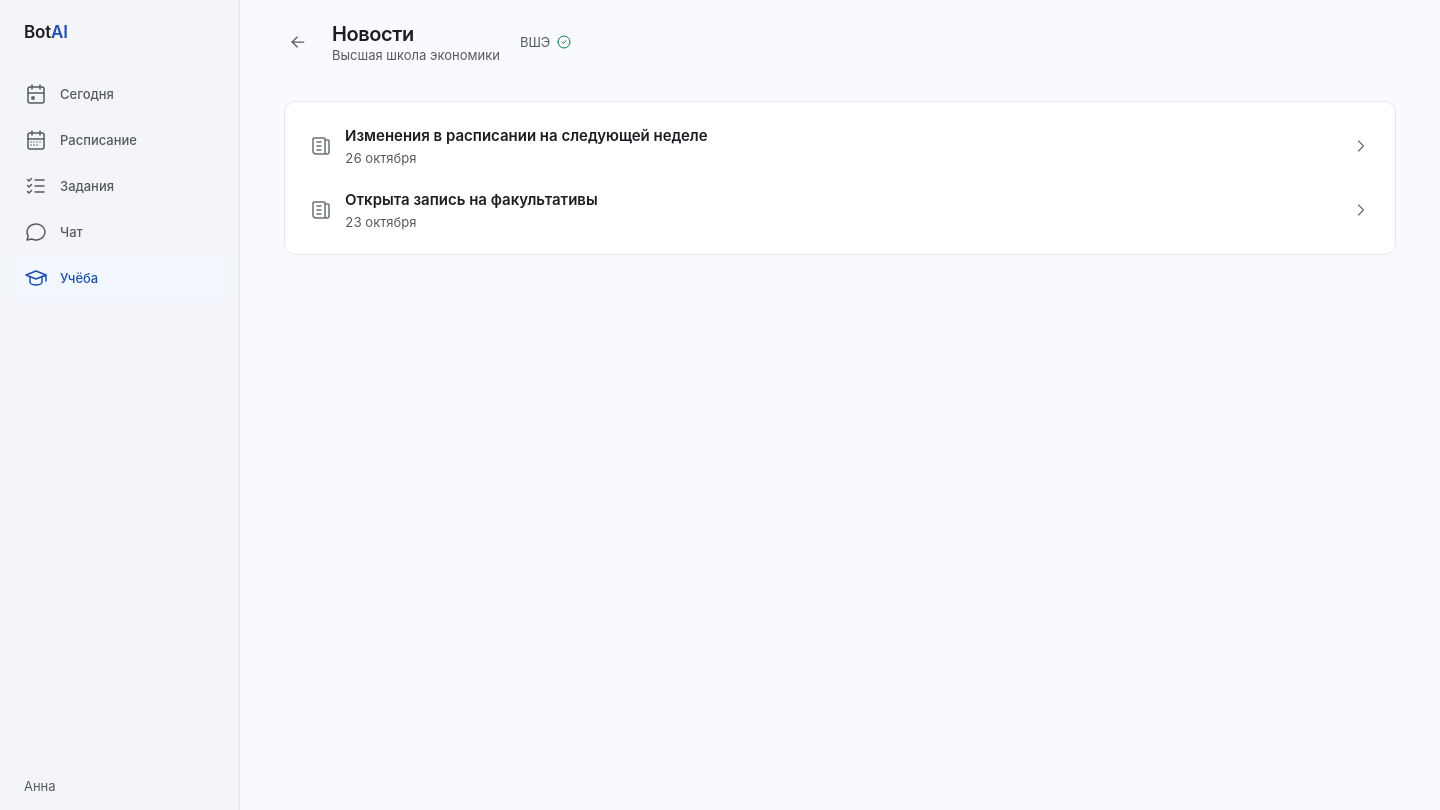
Test: «Учёба»: экраны разделов › «Новости»: свежие первыми, текст новости — обычный текст, ссылка на оригинал отдельно
Click the button "Изменения в расписании на следующей неделе 26 октября": (526, 136) [297,114,1383,178]
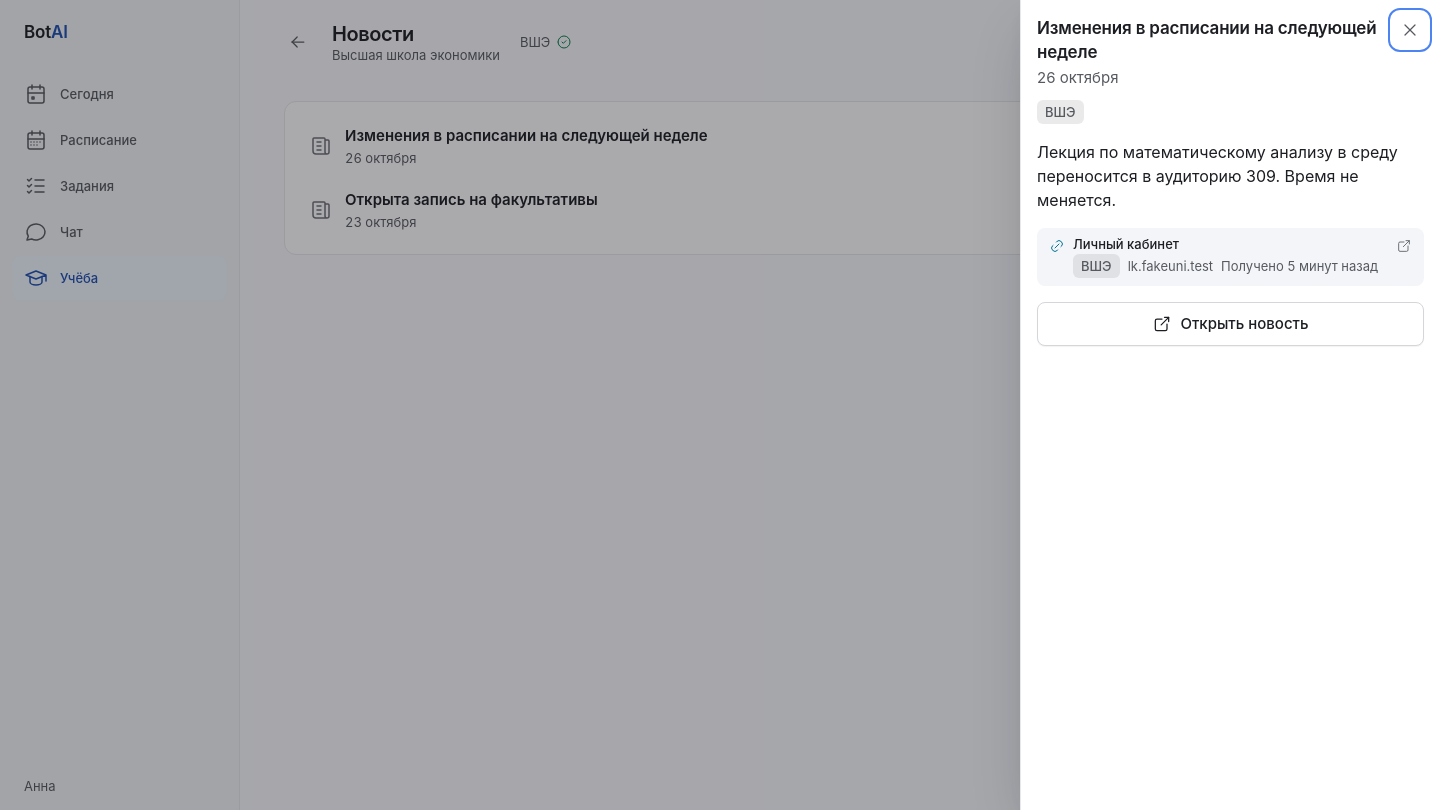
expect the text "аудиторию 309" is shown: met, box [1037,142,1398,210]
expect the link "Открыть новость" is shown: met, box [1037,302,1424,346]
